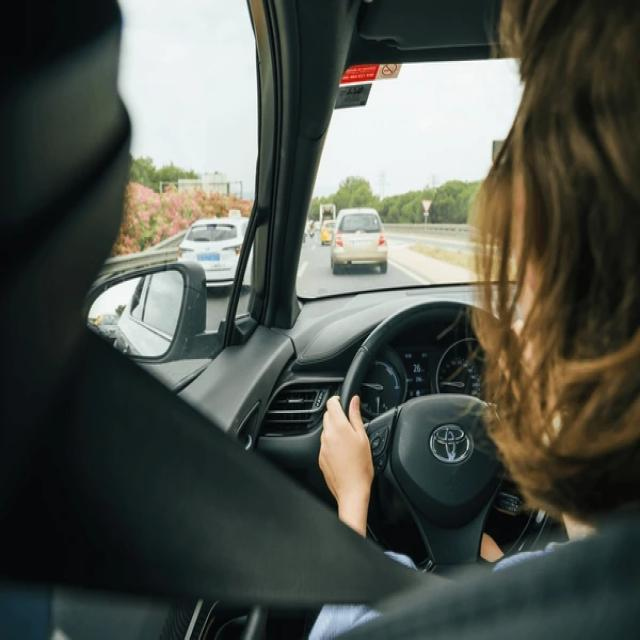toyota: (427, 421, 475, 467)
